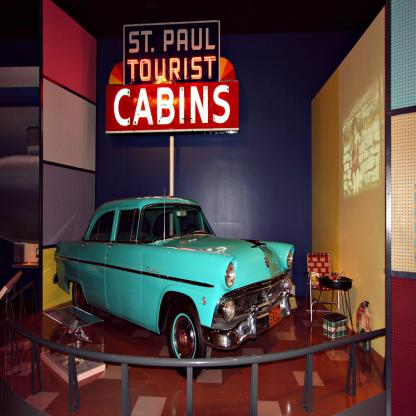Car: (54, 192, 306, 364)
